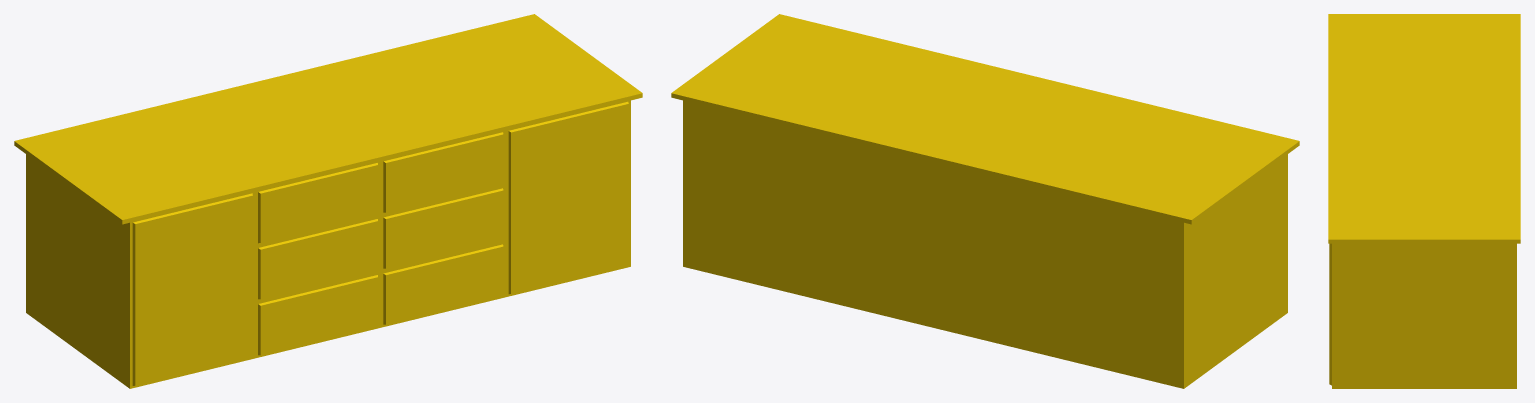
The model's file is Kitchen_Counter_3.FBX.
3 views of the same model, side by side, from view 1: azimuth 30°, elevation 25°; view 2: azimuth 150°, elevation 25°; view 3: azimuth 270°, elevation 25° (orthographic). The views are drawn at different scales.
Visible parts, largest first — view 1: Box003; view 2: Box003; view 3: Box003.
Boxes of the visible parts, <box> form: Box003: <box>14,14,642,388</box>; Box003: <box>671,14,1299,388</box>; Box003: <box>1328,14,1520,388</box>.
Bounding box in the file's own units: 4.3 × 1.36 × 1.55.
